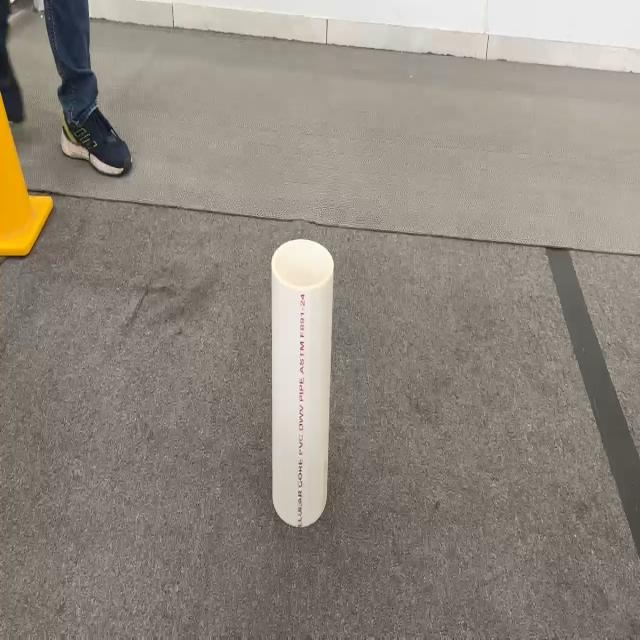coral: (270, 237, 334, 527)
